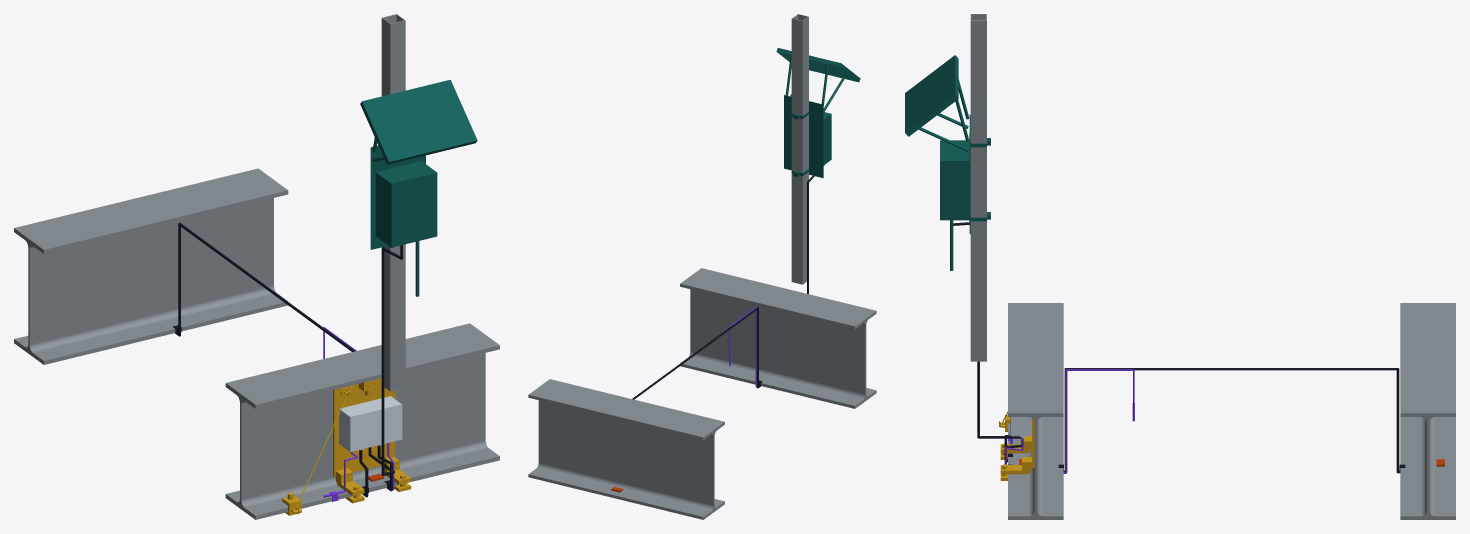
The picture shows the model from 3 angles, left to right: view 1: azimuth 30°, elevation 25°; view 2: azimuth 150°, elevation 25°; view 3: azimuth 270°, elevation 25°; orthographic projection. The views are drawn at different scales.
Visible parts, largest first — view 1: Existing girders and post at midspan (not in kit), FieldNode core (6 W panel, cell, radio), Mounting plate, foot clamps and jack, Sensor hub enclosure, IP67 die-cast, Sensor cables, clips and M12 connectors; view 2: Existing girders and post at midspan (not in kit), FieldNode core (6 W panel, cell, radio), Sensor cables, clips and M12 connectors; view 3: Existing girders and post at midspan (not in kit), FieldNode core (6 W panel, cell, radio), Sensor cables, clips and M12 connectors, Mounting plate, foot clamps and jack, Temperature probes (2).
Boxes of the visible parts, x1,y1,x2,y2 form: Existing girders and post at midspan (not in kit): [14, 14, 499, 519]; FieldNode core (6 W panel, cell, radio): [360, 79, 477, 296]; Mounting plate, foot clamps and jack: [282, 378, 411, 515]; Sensor hub enclosure, IP67 die-cast: [339, 396, 402, 451]; Sensor cables, clips and M12 connectors: [173, 222, 402, 497]; Existing girders and post at midspan (not in kit): [528, 14, 876, 519]; FieldNode core (6 W panel, cell, radio): [776, 48, 860, 177]; Sensor cables, clips and M12 connectors: [632, 175, 814, 399]; Existing girders and post at midspan (not in kit): [970, 14, 1455, 519]; FieldNode core (6 W panel, cell, radio): [905, 55, 990, 270]; Sensor cables, clips and M12 connectors: [953, 222, 1405, 473]; Mounting plate, foot clamps and jack: [999, 411, 1034, 480]; Temperature probes (2): [1005, 369, 1134, 473].
Size of the model in its own units: 0.8 by 1.52 by 1.69.
